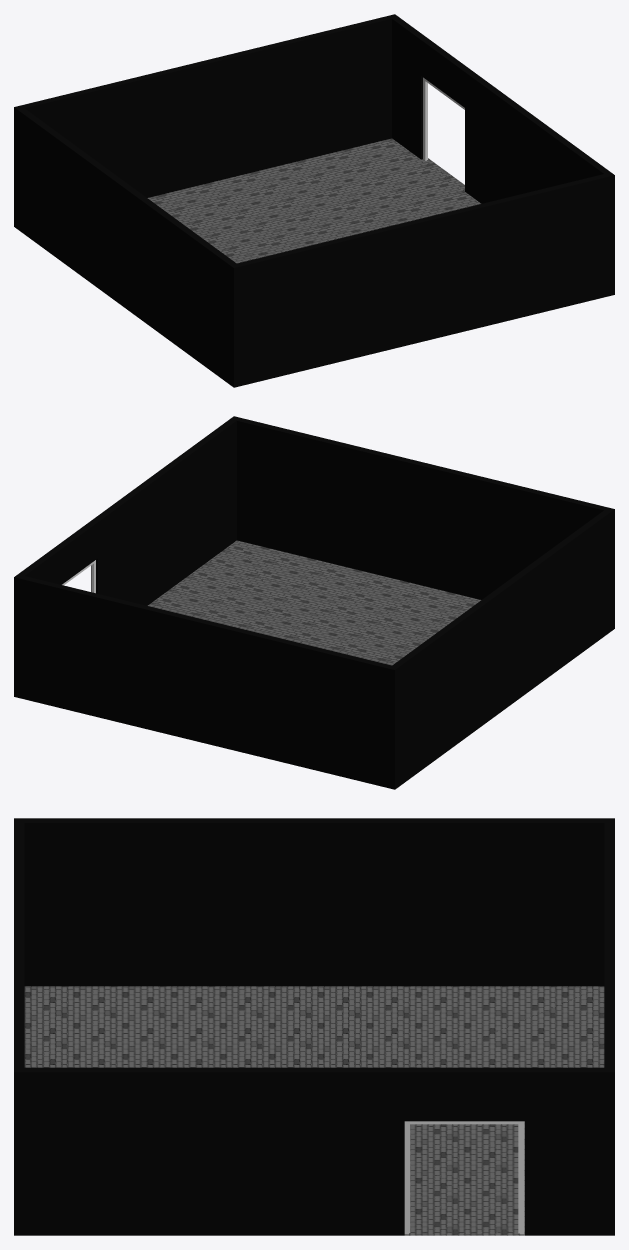
File: storage.glb
The picture shows the model from 3 angles, top to bottom: view 1: azimuth 30°, elevation 25°; view 2: azimuth 150°, elevation 25°; view 3: azimuth 270°, elevation 25°; orthographic projection. The views are drawn at different scales.
Visible parts, largest first — view 1: instance_0.001, instance_0, DoorFrame; view 2: instance_0.001, instance_0; view 3: instance_0.001, instance_0, DoorFrame.
Boxes of the visible parts, <box> form: instance_0.001: <box>14,14,614,387</box>; instance_0: <box>147,138,481,263</box>; DoorFrame: <box>423,77,464,160</box>; instance_0.001: <box>14,416,614,789</box>; instance_0: <box>147,540,481,665</box>; instance_0.001: <box>14,818,614,1235</box>; instance_0: <box>24,986,604,1235</box>; DoorFrame: <box>404,1121,524,1234</box>.
Bounding box in the file's own units: 10 × 3 × 10.
2 materials, 1 textured.
